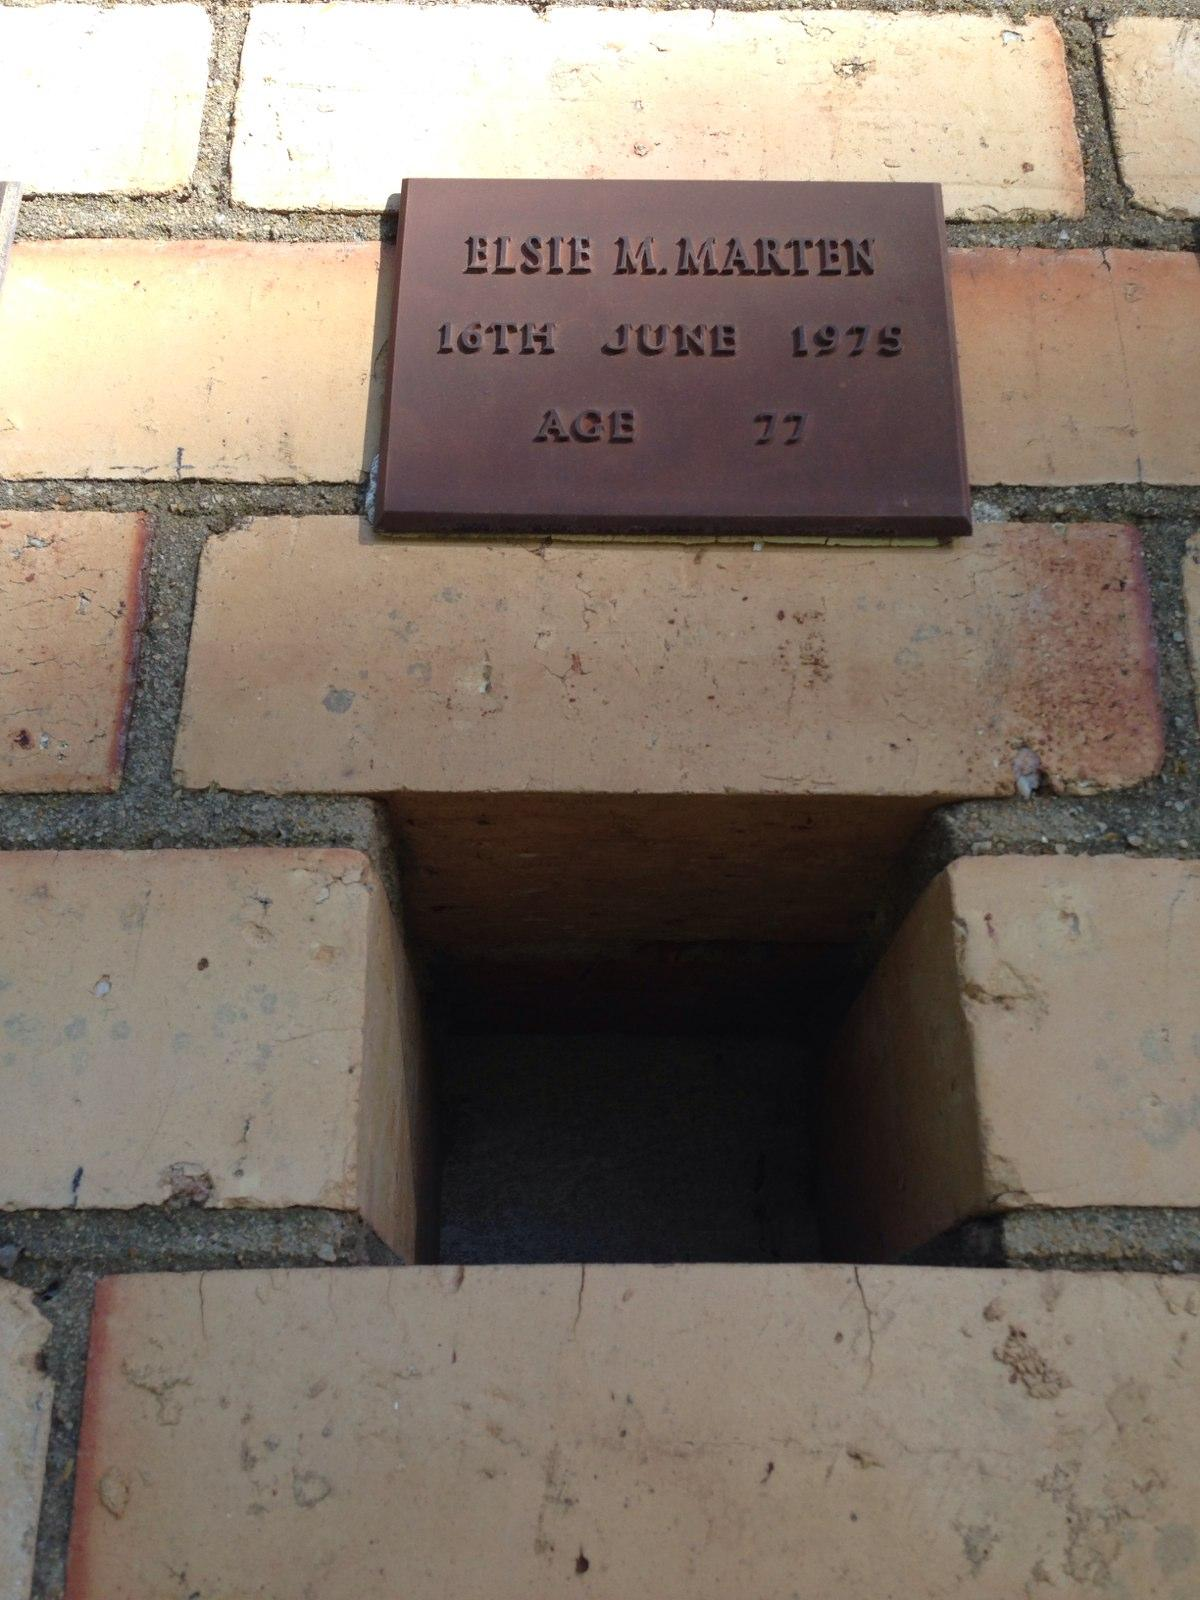plaque: (367, 175, 971, 537)
